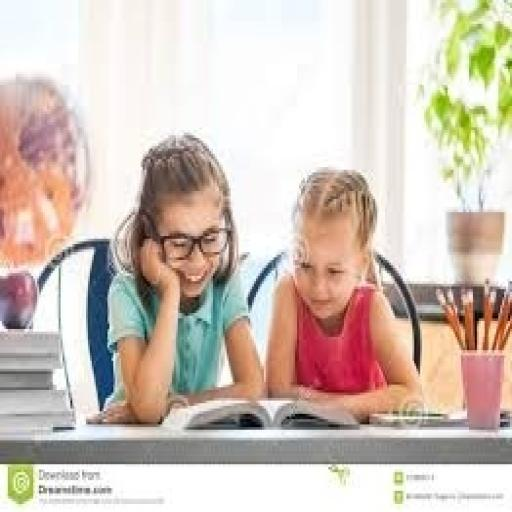sitting: (84, 130, 266, 427), (262, 164, 424, 422)
